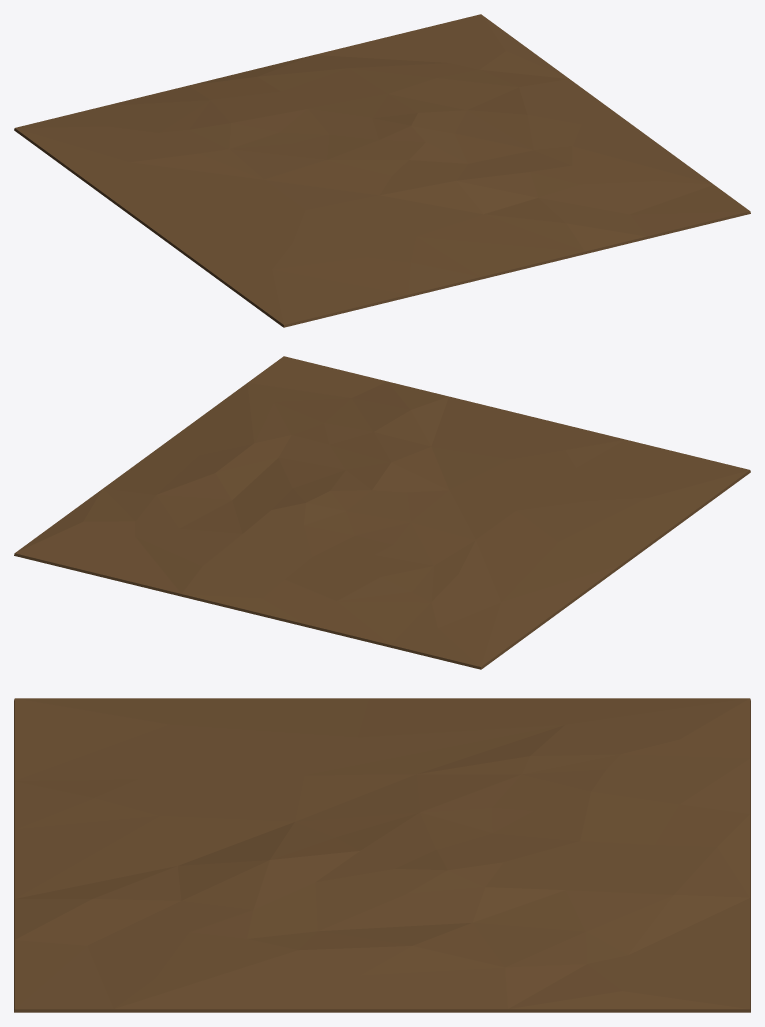
File: Mesh_Landscape_Mud_07.FBX
The picture shows the model from 3 angles, top to bottom: view 1: azimuth 30°, elevation 25°; view 2: azimuth 150°, elevation 25°; view 3: azimuth 270°, elevation 25°; orthographic projection. The views are drawn at different scales.
Parts seen in each view (by area): view 1: Mesh_Landscape_Mud_07; view 2: Mesh_Landscape_Mud_07; view 3: Mesh_Landscape_Mud_07.
Part boxes in pixels (x1,y1,x2,y2): Mesh_Landscape_Mud_07: (14,14,750,327); Mesh_Landscape_Mud_07: (14,356,750,669); Mesh_Landscape_Mud_07: (14,698,750,1012).
Size of the model in its own units: 401 by 401 by 13.06.
